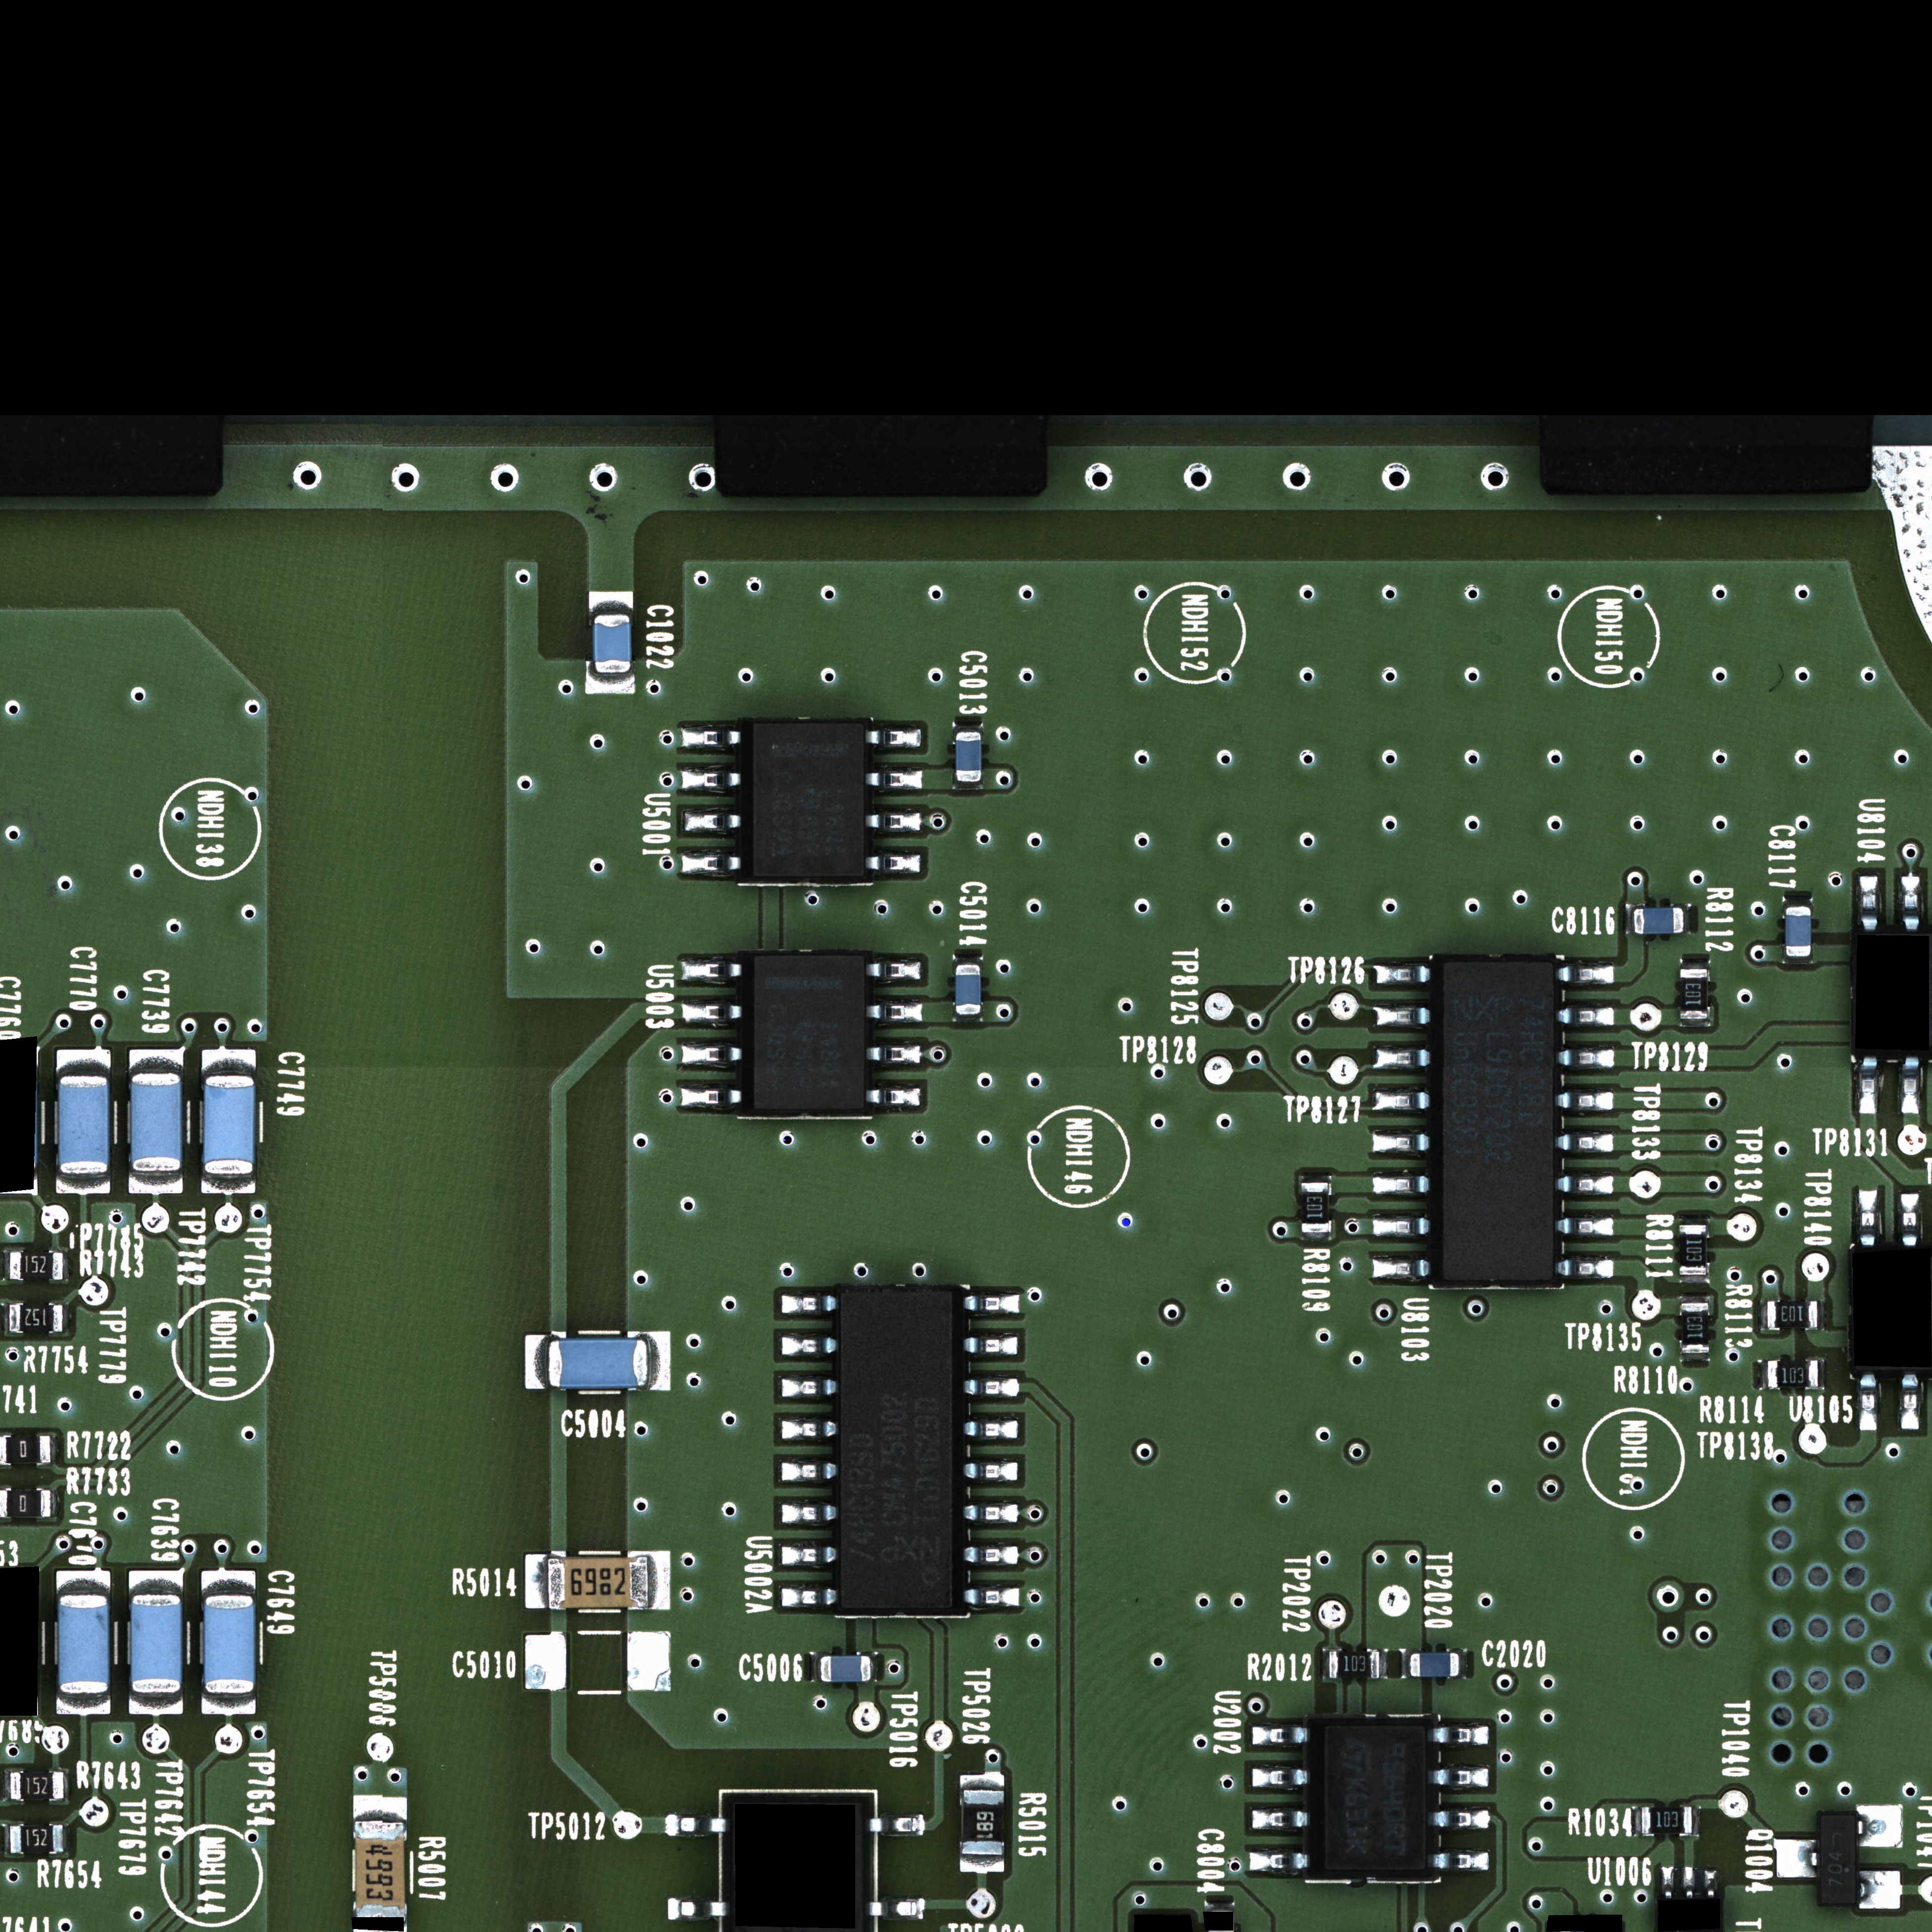Package: (839, 1290, 954, 1610), (1444, 962, 1555, 1281), (750, 722, 865, 878), (752, 955, 865, 1111), (1323, 1725, 1426, 1870), (548, 1557, 648, 1608), (58, 1594, 108, 1695), (58, 1076, 108, 1175), (203, 1076, 253, 1175), (131, 1074, 180, 1173), (131, 1596, 180, 1693), (205, 1594, 253, 1693), (548, 1339, 648, 1387), (1819, 1813, 1856, 1905), (962, 1790, 1003, 1854), (594, 614, 630, 672), (11, 1251, 62, 1281), (9, 1304, 62, 1332), (11, 1773, 62, 1801), (11, 1826, 62, 1854), (1642, 1806, 1691, 1835), (1300, 1182, 1329, 1231), (1681, 1224, 1707, 1276), (1329, 1649, 1380, 1675), (1683, 970, 1709, 1019), (1767, 1302, 1817, 1329), (821, 1656, 870, 1683), (1767, 1361, 1817, 1387), (1785, 908, 1812, 957), (1683, 1302, 1707, 1353), (955, 964, 980, 1014), (955, 732, 980, 782), (1410, 1652, 1460, 1677), (1635, 908, 1683, 932)
Solder: (1856, 1803, 1904, 1847), (1858, 1870, 1902, 1909), (1776, 1838, 1817, 1877), (667, 1813, 729, 1838), (1856, 1187, 1881, 1247), (667, 1897, 727, 1921), (681, 766, 740, 791), (1900, 1058, 1925, 1116), (1898, 1373, 1923, 1431), (202, 1047, 255, 1074), (57, 1047, 110, 1074), (685, 809, 741, 833), (1898, 874, 1923, 931), (1897, 1191, 1921, 1247), (870, 1813, 927, 1838), (681, 1000, 741, 1023), (648, 1330, 671, 1391), (681, 851, 741, 874), (1426, 1767, 1490, 1789), (648, 1552, 671, 1610), (1858, 872, 1881, 931), (1858, 1373, 1881, 1431), (57, 1569, 110, 1594), (202, 1569, 255, 1594), (1428, 1808, 1490, 1829), (1249, 1849, 1306, 1872), (1373, 1256, 1430, 1279), (1858, 1058, 1881, 1115), (681, 727, 741, 748), (681, 1044, 741, 1065), (869, 768, 924, 791), (525, 1553, 548, 1608), (202, 1693, 257, 1716), (129, 1047, 184, 1070), (1251, 1806, 1306, 1829), (129, 1569, 184, 1592), (525, 1334, 548, 1389), (1253, 1766, 1306, 1789), (1375, 1088, 1428, 1111), (1375, 1046, 1428, 1069), (782, 1460, 835, 1483), (1428, 1851, 1490, 1870), (1371, 1131, 1428, 1152), (870, 1898, 927, 1920), (681, 1086, 741, 1106), (681, 961, 741, 980), (1428, 1725, 1488, 1744), (1559, 1090, 1614, 1111), (867, 810, 922, 832), (1559, 1215, 1614, 1237), (1559, 1256, 1614, 1277), (1373, 1173, 1428, 1194), (1373, 1215, 1428, 1237), (782, 1419, 837, 1440), (782, 1334, 837, 1355), (1560, 1173, 1614, 1194), (1560, 1047, 1614, 1069), (1560, 1005, 1614, 1026), (867, 727, 920, 748), (782, 1545, 835, 1566), (782, 1502, 835, 1523), (782, 1293, 835, 1315), (129, 1173, 182, 1194), (57, 1693, 110, 1714), (129, 1693, 182, 1714), (782, 1376, 835, 1398), (867, 851, 920, 872), (1376, 1005, 1428, 1026), (966, 1334, 1017, 1355), (1559, 964, 1614, 984), (1559, 1132, 1614, 1152), (1251, 1725, 1306, 1744), (867, 1044, 922, 1063), (964, 1504, 1019, 1523), (782, 1587, 835, 1606), (966, 1545, 1019, 1564), (57, 1175, 110, 1194), (869, 961, 922, 980), (966, 1461, 1019, 1481), (966, 1587, 1019, 1606), (1376, 964, 1430, 984), (589, 591, 633, 614), (587, 672, 635, 694), (867, 1003, 924, 1021), (966, 1419, 1017, 1438), (202, 1177, 257, 1194), (867, 1088, 922, 1106), (966, 1295, 1019, 1313), (961, 1773, 1005, 1790), (961, 1856, 1005, 1872), (1660, 1867, 1675, 1898), (1681, 1867, 1697, 1898), (1702, 1865, 1718, 1897), (1757, 1359, 1767, 1391), (1683, 904, 1693, 934), (64, 1251, 74, 1281), (1460, 1649, 1468, 1681), (1691, 1805, 1700, 1836), (952, 1014, 984, 1023), (1300, 1173, 1332, 1182), (1300, 1231, 1332, 1240), (1380, 1647, 1389, 1679), (1679, 1215, 1711, 1224), (1782, 897, 1813, 906), (1782, 957, 1813, 966), (1677, 1274, 1709, 1283), (51, 1433, 60, 1465), (1399, 1649, 1408, 1679), (1633, 1806, 1642, 1836), (810, 1652, 819, 1683), (1681, 1019, 1711, 1028), (1626, 904, 1635, 934), (1205, 1900, 1235, 1909), (65, 1304, 74, 1334), (1681, 1353, 1709, 1362), (870, 1652, 879, 1681), (954, 724, 982, 732), (1681, 959, 1709, 968), (64, 1826, 73, 1854), (51, 1490, 60, 1518), (952, 782, 984, 789), (1322, 1649, 1329, 1679), (1819, 1300, 1826, 1330), (954, 955, 982, 962), (1681, 1295, 1709, 1302), (1759, 1302, 1766, 1330), (1819, 1359, 1824, 1391), (64, 1769, 69, 1801)
